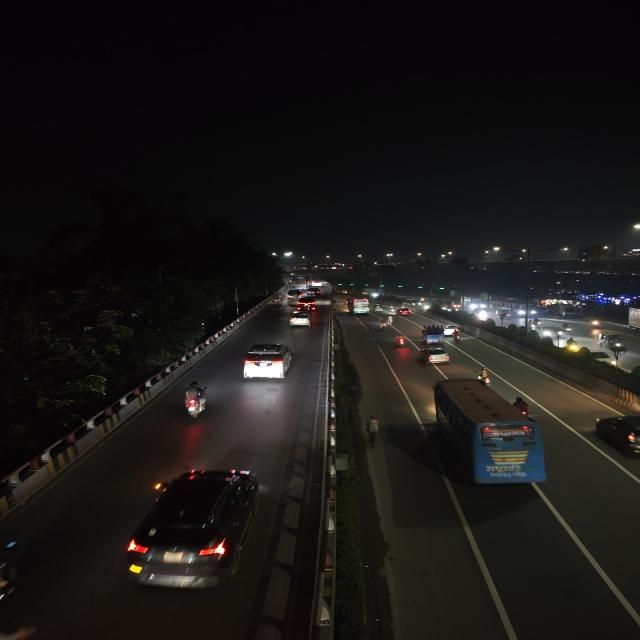bicycle: (357, 412, 388, 449)
bus: (433, 378, 553, 498), (347, 298, 374, 315), (510, 302, 536, 318), (469, 296, 489, 314), (293, 274, 310, 291)
car: (120, 461, 276, 591), (235, 342, 295, 382), (419, 346, 453, 367), (287, 309, 313, 330), (296, 298, 317, 312), (285, 290, 306, 303), (396, 308, 417, 318), (306, 287, 320, 297), (445, 322, 455, 335), (312, 279, 322, 288)
cng: (596, 332, 625, 351), (372, 302, 384, 312)
motorcycle: (178, 382, 213, 422), (514, 393, 537, 416), (476, 367, 496, 389), (395, 330, 408, 350), (589, 317, 601, 330), (378, 318, 388, 331), (453, 330, 463, 343), (387, 314, 395, 324), (388, 304, 396, 314)
pickup_van: (422, 324, 447, 346)
truck: (560, 305, 576, 317)
